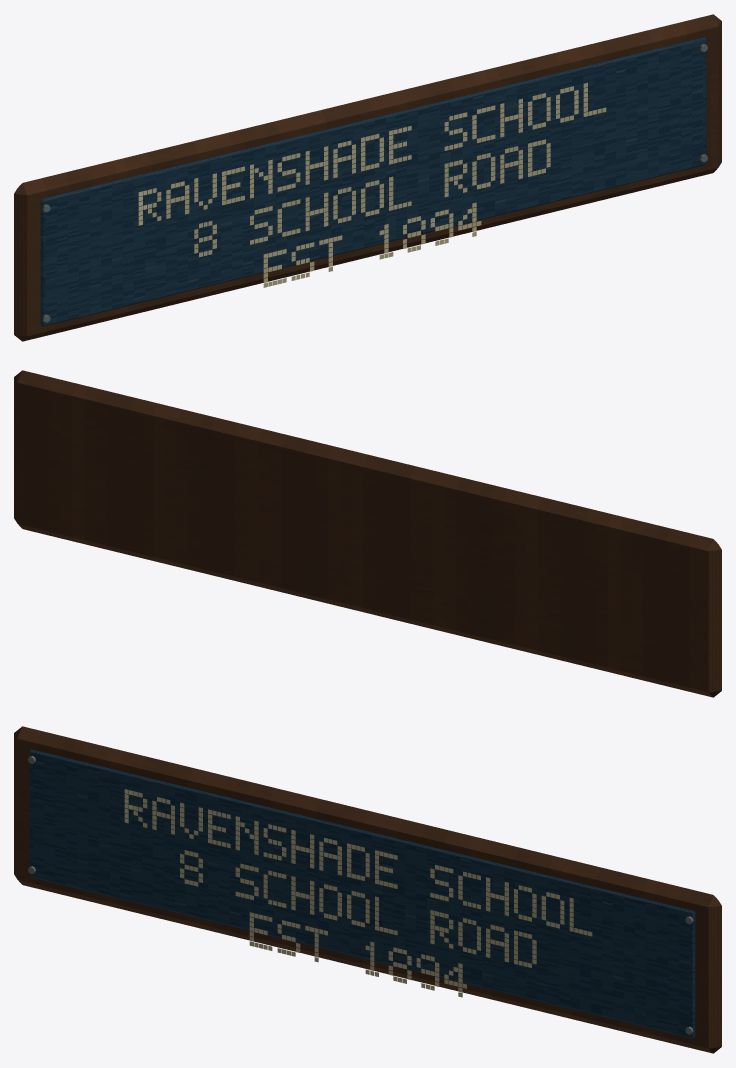
The model's file is level_sign_school.glb.
The picture shows the model from 3 angles, top to bottom: view 1: azimuth 30°, elevation 25°; view 2: azimuth 150°, elevation 25°; view 3: azimuth 330°, elevation 25°; orthographic projection.
Visible parts, largest first — view 1: level_sign_school; view 2: level_sign_school; view 3: level_sign_school.
Part boxes in pixels (bbox=[...]): level_sign_school: bbox=[14, 14, 721, 341]; level_sign_school: bbox=[14, 370, 721, 697]; level_sign_school: bbox=[14, 726, 721, 1053].
Size of the model in its own units: 1.68 by 0.36 by 0.053.
Materials: 4 (4 with a texture image).
